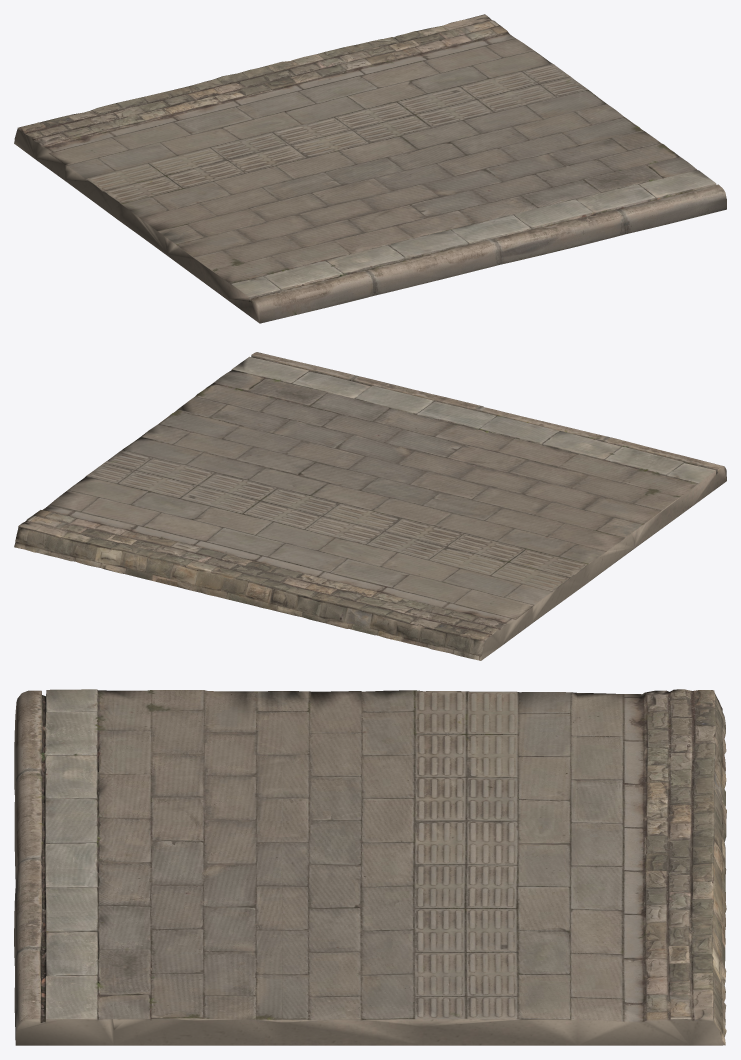
File: PX_Sidewalk_02_LOD3.fbx
3 views of the same model, one above another, from view 1: azimuth 30°, elevation 25°; view 2: azimuth 150°, elevation 25°; view 3: azimuth 270°, elevation 25° (orthographic). The views are drawn at different scales.
Parts seen in each view (by area): view 1: PX_Sidewalk_02_LOD3; view 2: PX_Sidewalk_02_LOD3; view 3: PX_Sidewalk_02_LOD3.
Part boxes in pixels (box(x1,y1,x2,y2)): PX_Sidewalk_02_LOD3: box(14, 14, 726, 323); PX_Sidewalk_02_LOD3: box(14, 352, 726, 660); PX_Sidewalk_02_LOD3: box(14, 689, 726, 1045).
Size of the model in its own units: 271 by 11.8 by 249.
